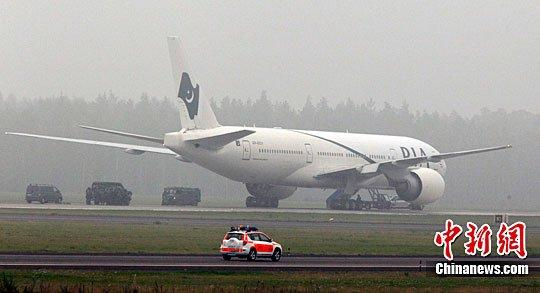airplane: (1, 33, 523, 208)
